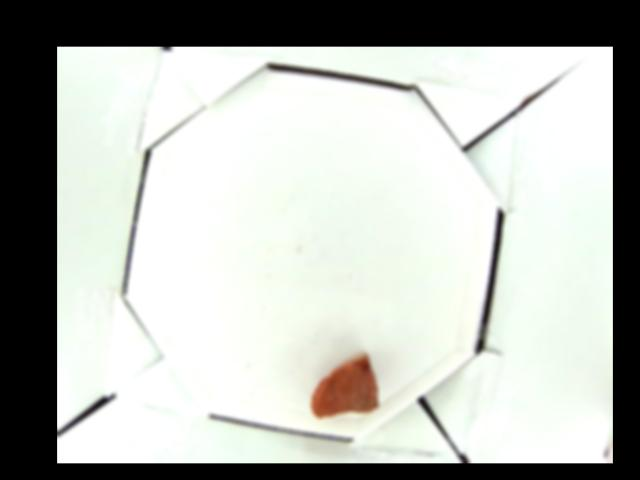Brisk: (312, 350, 380, 418)
